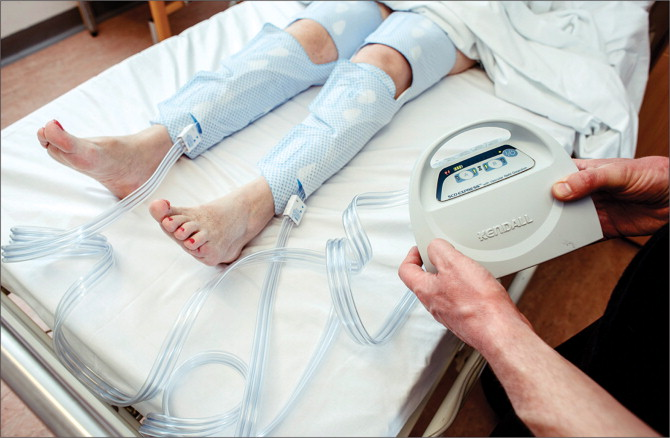hospital_bed: (1, 1, 670, 438)
patient: (37, 1, 670, 256)
sequential_compression: (1, 40, 605, 438)
